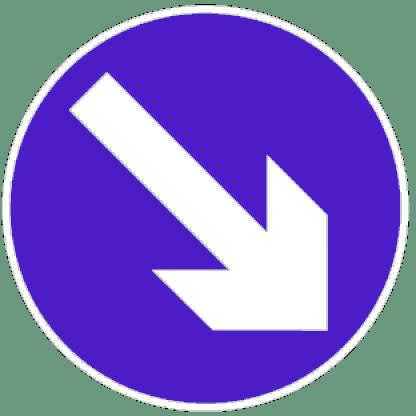Keep right: (10, 3, 407, 408)
